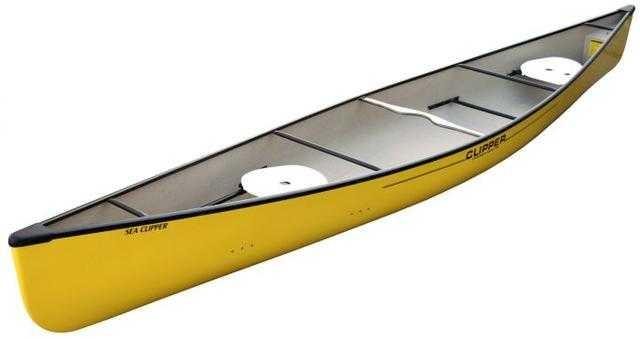kayak: (11, 11, 635, 330)
